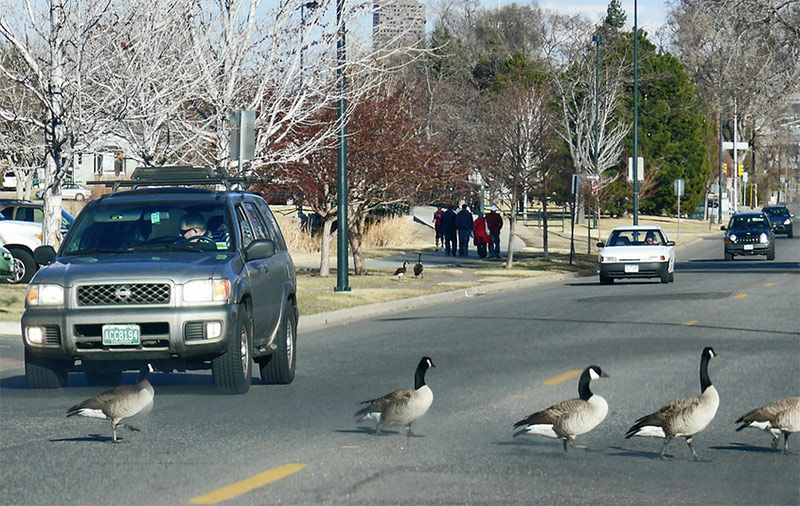goose: (621, 343, 725, 464), (503, 361, 616, 455), (63, 354, 172, 445), (346, 353, 438, 442), (734, 392, 800, 457), (412, 249, 429, 277), (392, 258, 411, 280)
